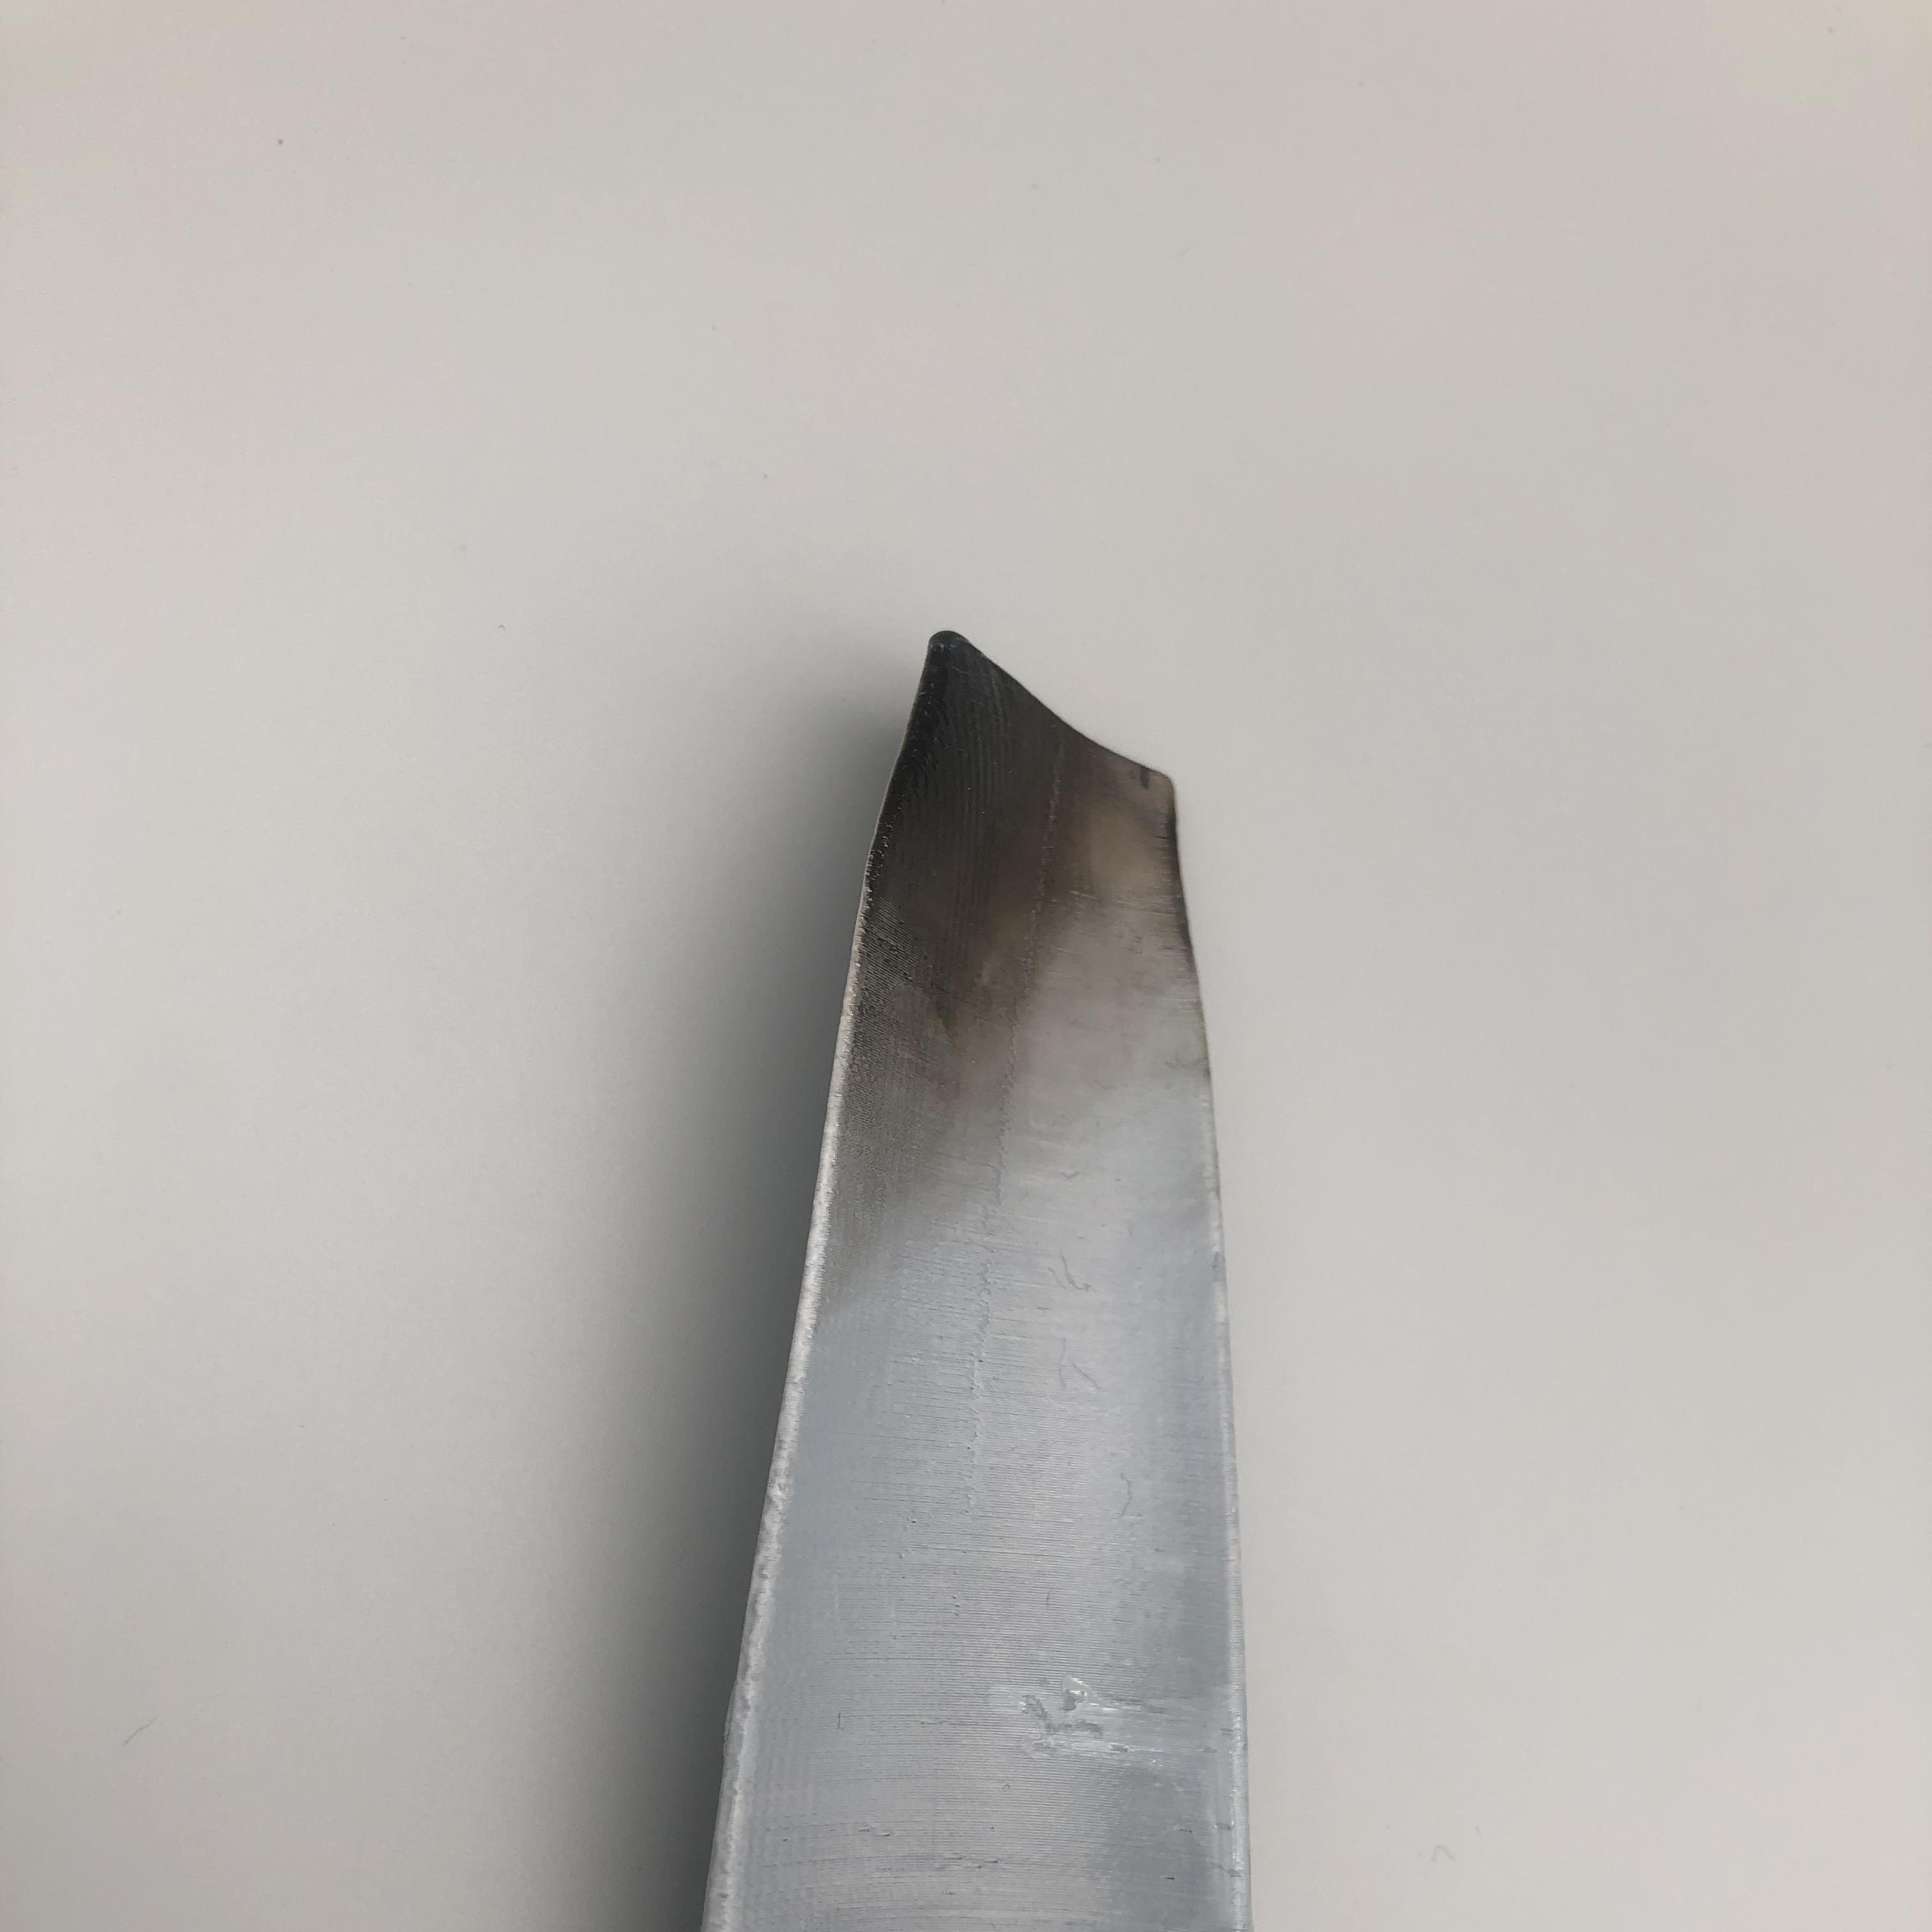ablation: (883, 665, 1162, 1016)
